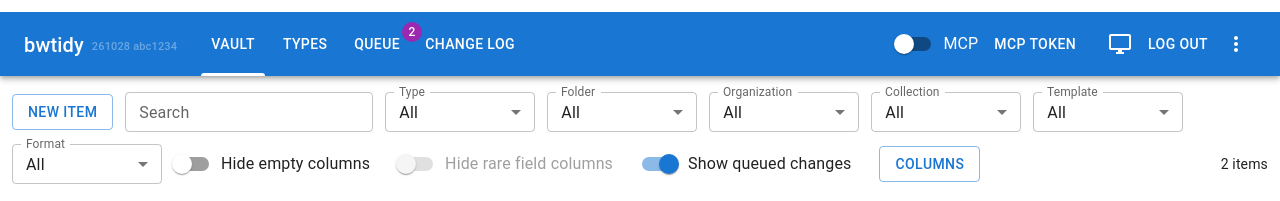
the Queue button tooltip explains its number: MCP proposals only
The image size is (1280, 201).
Hover over the button with aria-label "Queue, 2 MCP proposals to review" at {"x": 377, "y": 44}, box [345,12,409,76]
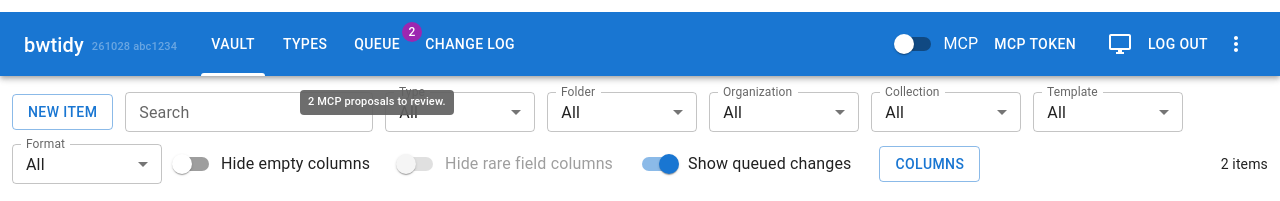
Expected: the tooltip reads "2 MCP proposals to review.", [308,95,446,108]
